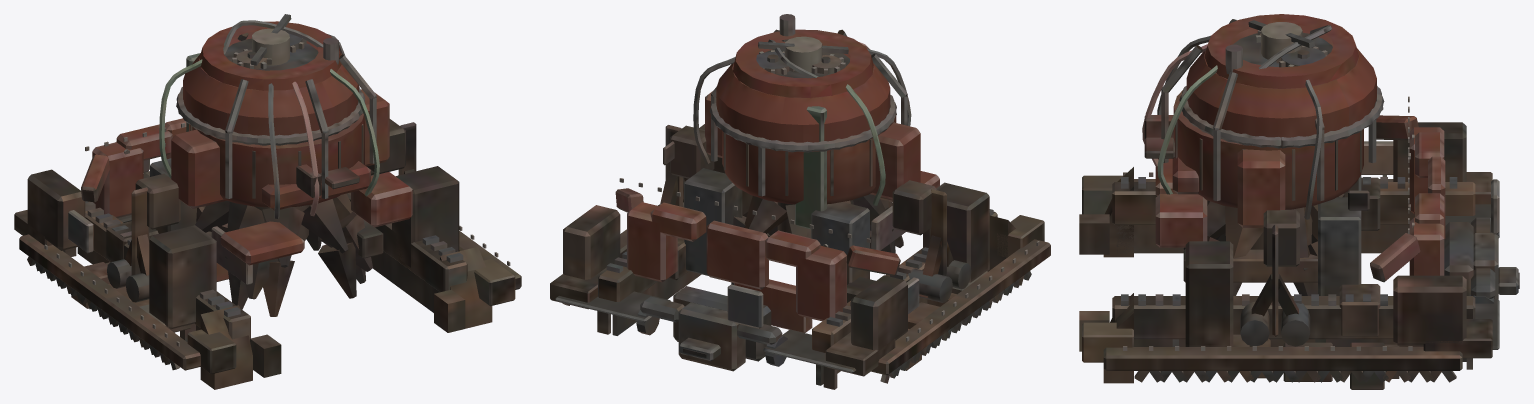
Rendered from big-mining-drill.glb.
The picture shows the model from 3 angles, left to right: view 1: azimuth 30°, elevation 25°; view 2: azimuth 150°, elevation 25°; view 3: azimuth 270°, elevation 25°; orthographic projection. The views are drawn at different scales.
Visible parts, largest first — view 1: body, anim_spin_drill; view 2: body, anim_spin_drill; view 3: body, anim_spin_drill.
Part boxes in pixels (box(x1,y1,x2,y2)): body: box(14, 14, 521, 389); anim_spin_drill: box(195, 193, 372, 316); body: box(550, 14, 1050, 389); anim_spin_drill: box(731, 190, 903, 284); body: box(1079, 14, 1519, 389); anim_spin_drill: box(1183, 193, 1344, 295).
Size of the model in its own units: 4.88 by 3.63 by 5.09.
Materials: 1 (1 with a texture image).
